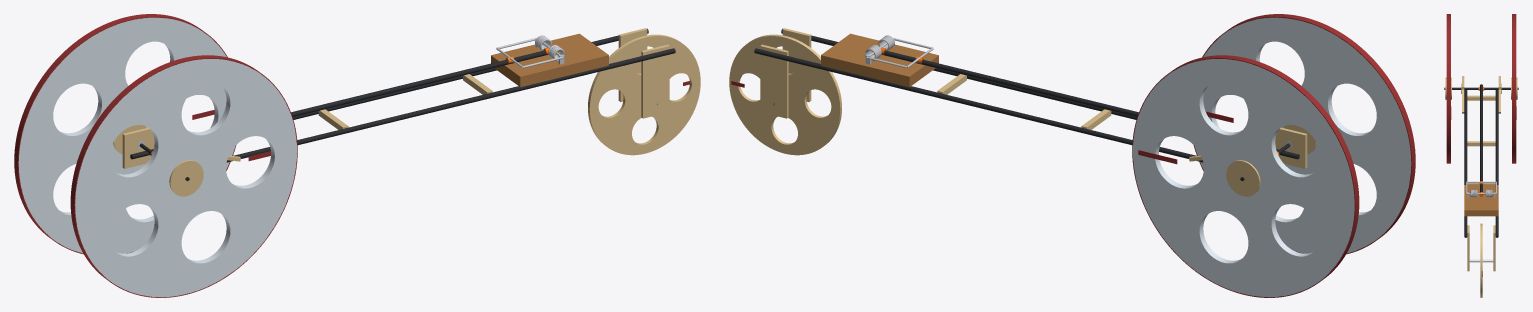
File: mausefallen_auto.glb
3 renders of one model, left to right at view 1: azimuth 30°, elevation 25°; view 2: azimuth 150°, elevation 25°; view 3: azimuth 270°, elevation 25°, orthographic. The views are drawn at different scales.
Parts seen in each view (by area): view 1: Hinterrad Depron 6 mm (×2), Vorderrad Balsa 2x1,5 mm kreuzverleimt, Laufflaeche Gummi (×2), Mausefalle (Holzbrett gekuerzt), Gabel Balsa 3 mm (×2), Holm rechts, Hebel Carbonrohr 4x3 mm, Holm links, Nabe Balsa 1,5 mm, Lagerbock hinten; view 2: Hinterrad Depron 6 mm (×2), Vorderrad Balsa 2x1,5 mm kreuzverleimt, Laufflaeche Gummi (×2), Mausefalle (Holzbrett gekuerzt), Gabel Balsa 3 mm (×2), Holm links, Hebel Carbonrohr 4x3 mm, Holm rechts, Nabe Balsa 1,5 mm, Lagerbock hinten; view 3: Laufflaeche Gummi (×2), Mausefalle (Holzbrett gekuerzt), Holm links, Holm rechts, Hebel Carbonrohr 4x3 mm, Gabel Balsa 3 mm (×2), Vorderrad Balsa 2x1,5 mm kreuzverleimt, Hinterachse Carbon 3 mm, Querstrebe x=15, Querstrebe x=160, Schraegstrebe (×2).
Boxes of the visible parts, x1,y1,x2,y2 form: Hinterrad Depron 6 mm (×2): (18, 17, 296, 297); Vorderrad Balsa 2x1,5 mm kreuzverleimt: (588, 34, 700, 155); Laufflaeche Gummi (×2): (14, 14, 297, 297); Mausefalle (Holzbrett gekuerzt): (491, 33, 608, 87); Gabel Balsa 3 mm (×2): (618, 28, 669, 118); Holm rechts: (226, 48, 675, 162); Hebel Carbonrohr 4x3 mm: (291, 50, 548, 116); Holm links: (130, 28, 648, 159); Nabe Balsa 1,5 mm: (169, 160, 203, 196); Lagerbock hinten: (122, 127, 154, 168); Hinterrad Depron 6 mm (×2): (1133, 17, 1411, 297); Vorderrad Balsa 2x1,5 mm kreuzverleimt: (729, 34, 841, 155); Laufflaeche Gummi (×2): (1132, 14, 1415, 297); Mausefalle (Holzbrett gekuerzt): (821, 33, 938, 87); Gabel Balsa 3 mm (×2): (760, 28, 811, 118); Holm links: (754, 48, 1203, 162); Hebel Carbonrohr 4x3 mm: (881, 50, 1138, 116); Holm rechts: (781, 28, 1299, 159); Nabe Balsa 1,5 mm: (1226, 160, 1260, 196); Lagerbock hinten: (1275, 127, 1307, 168); Laufflaeche Gummi (×2): (1446, 14, 1516, 163); Mausefalle (Holzbrett gekuerzt): (1464, 185, 1498, 216); Holm links: (1495, 90, 1498, 237); Holm rechts: (1464, 90, 1467, 237); Hebel Carbonrohr 4x3 mm: (1480, 84, 1482, 191); Gabel Balsa 3 mm (×2): (1467, 225, 1495, 271); Vorderrad Balsa 2x1,5 mm kreuzverleimt: (1480, 223, 1482, 297); Hinterachse Carbon 3 mm: (1444, 87, 1518, 89); Querstrebe x=15: (1467, 95, 1495, 100); Querstrebe x=160: (1467, 141, 1495, 146); Schraegstrebe (×2): (1462, 89, 1500, 113).
Bounding box in the file's own units: 591 × 201 × 100.
